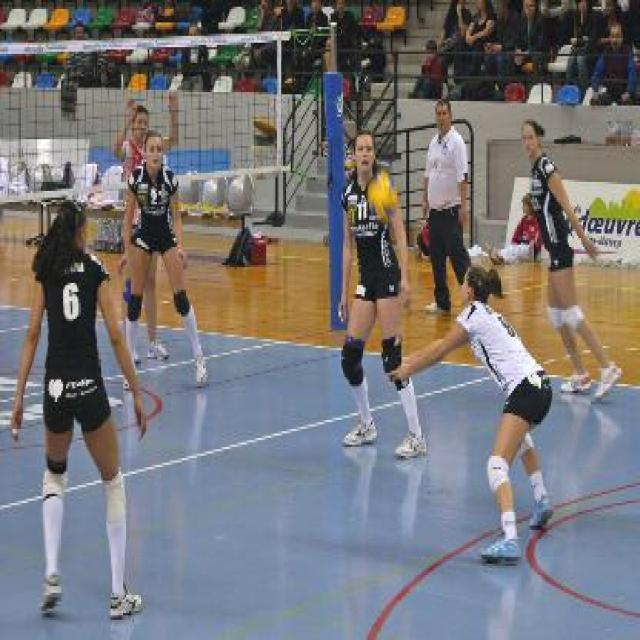volleyball: (367, 172, 401, 222)
